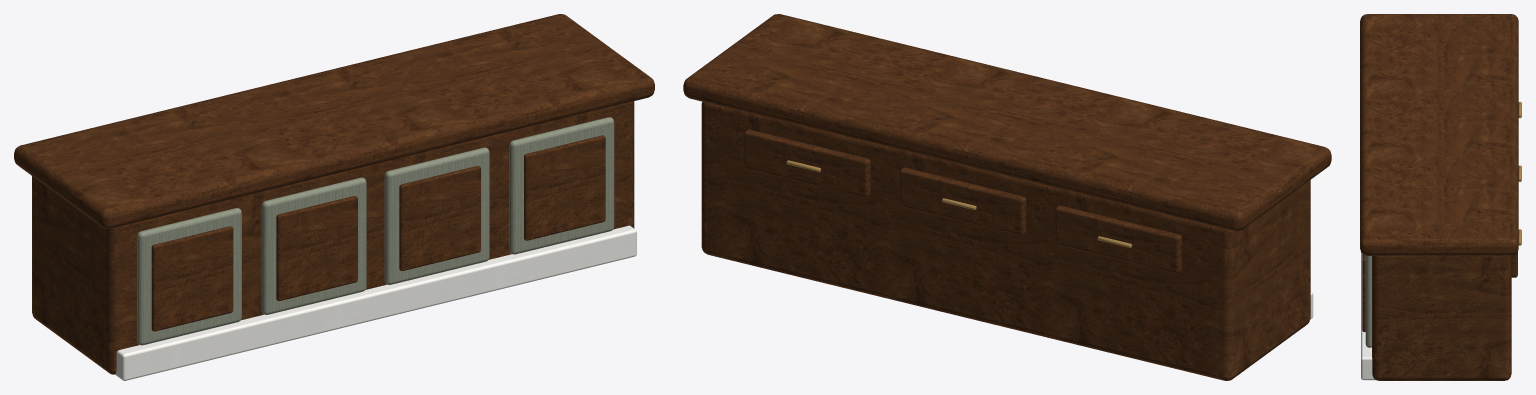
The model's file is willow_checkout_counter.glb.
3 renders of one model, left to right at view 1: azimuth 30°, elevation 25°; view 2: azimuth 150°, elevation 25°; view 3: azimuth 270°, elevation 25°, orthographic. The views are drawn at different scales.
Visible parts, largest first — view 1: willow_checkout_counter_willow_worn_oak_pbr, willow_checkout_counter_willow_dark_oak_pbr, willow_checkout_counter_willow_forest_corduroy_pbr, willow_checkout_counter_willow_blackened_steel_pbr; view 2: willow_checkout_counter_willow_dark_oak_pbr, willow_checkout_counter_willow_worn_oak_pbr, willow_checkout_counter_willow_aged_brass_pbr; view 3: willow_checkout_counter_willow_worn_oak_pbr, willow_checkout_counter_willow_dark_oak_pbr, willow_checkout_counter_willow_forest_corduroy_pbr, willow_checkout_counter_willow_blackened_steel_pbr, willow_checkout_counter_willow_aged_brass_pbr.
Part boxes in pixels (<box>): willow_checkout_counter_willow_worn_oak_pbr: <box>14,14,654,228</box>; willow_checkout_counter_willow_dark_oak_pbr: <box>32,101,634,374</box>; willow_checkout_counter_willow_forest_corduroy_pbr: <box>137,117,614,345</box>; willow_checkout_counter_willow_blackened_steel_pbr: <box>115,225,636,380</box>; willow_checkout_counter_willow_dark_oak_pbr: <box>701,101,1310,380</box>; willow_checkout_counter_willow_worn_oak_pbr: <box>683,14,1331,273</box>; willow_checkout_counter_willow_aged_brass_pbr: <box>786,160,1132,248</box>; willow_checkout_counter_willow_worn_oak_pbr: <box>1360,14,1518,277</box>; willow_checkout_counter_willow_dark_oak_pbr: <box>1362,254,1511,380</box>; willow_checkout_counter_willow_forest_corduroy_pbr: <box>1365,255,1371,347</box>; willow_checkout_counter_willow_blackened_steel_pbr: <box>1361,252,1375,380</box>; willow_checkout_counter_willow_aged_brass_pbr: <box>1518,102,1521,245</box>.
Bounding box in the file's own units: 3.42 × 1.03 × 1.02.
Materials: 5 (4 with a texture image).
